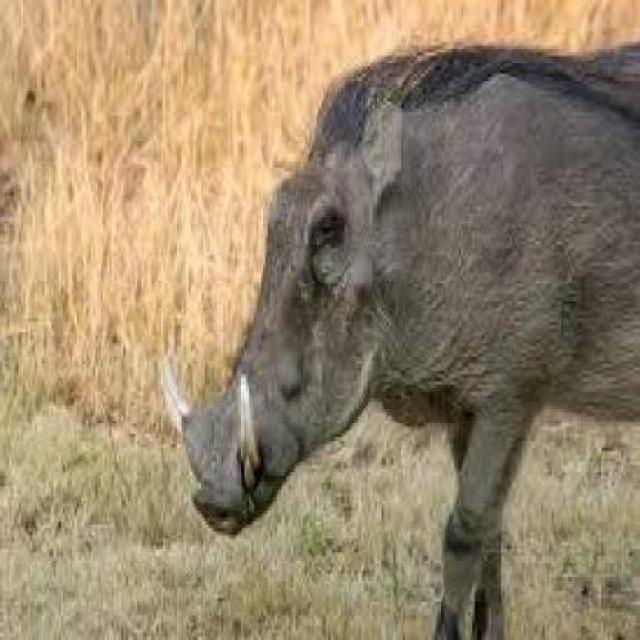wildboar: (152, 24, 639, 640)
